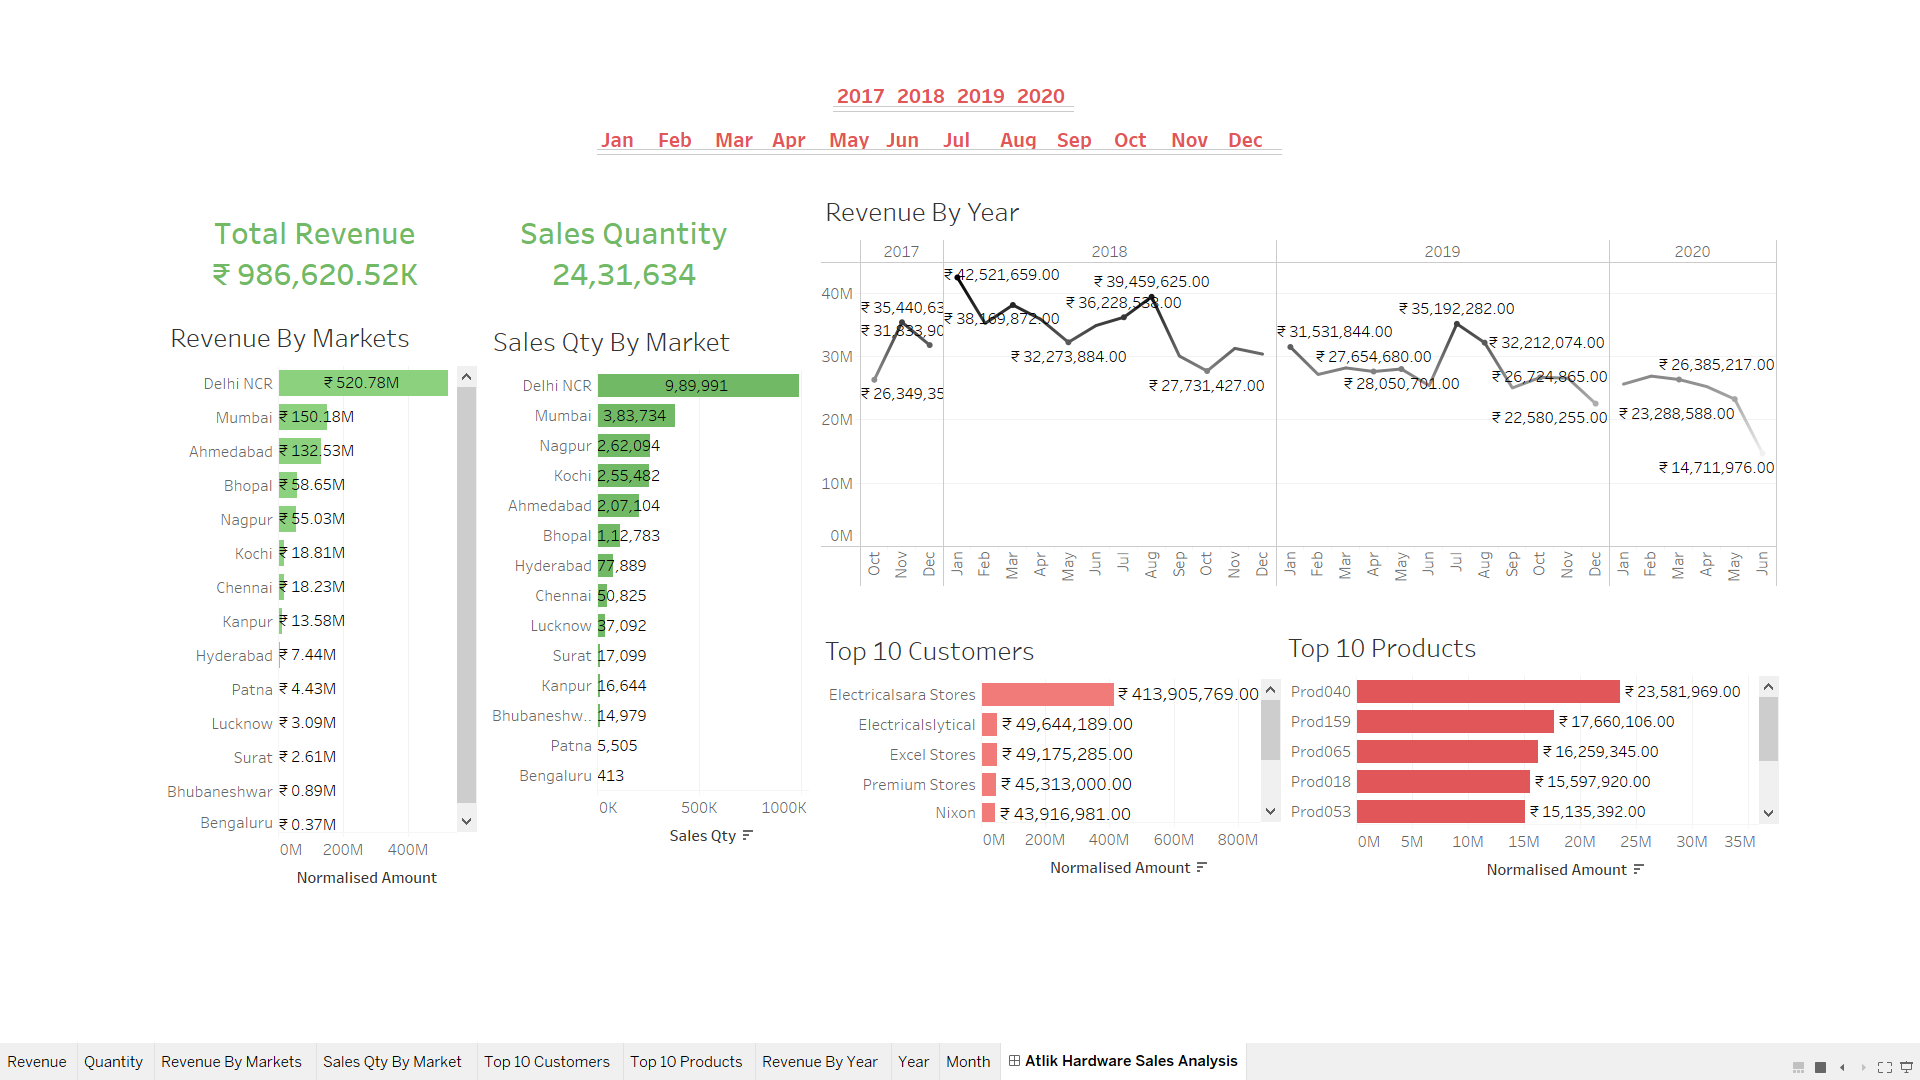

This screenshot's page, from the dashboard's own definition file:
{"tool":"tableau","page":{"name":"Atlik Hardware Sales Analysis","canvas":[1650,900],"ordinal":0},"visuals":[{"type":"worksheet","title":"Year","mark":"Automatic","cols":["cy_date"],"box":[698,13,299,50]},{"type":"worksheet","title":"Month","mark":"Automatic","cols":["cy_date"],"box":[462,58,752,68]},{"type":"worksheet","title":"Revenue By Year","mark":"Automatic","rows":["Calculation_1207527666405711872"],"cols":["cy_date","cy_date"],"box":[686,119,956,397]},{"type":"worksheet","title":"Revenue","mark":"Automatic","box":[70,141,265,89]},{"type":"worksheet","title":"Quantity","mark":"Automatic","box":[379,141,278,88]},{"type":"worksheet","title":"Revenue By Markets","mark":"Automatic","rows":["markets_name"],"cols":["Calculation_1207527666405711872"],"box":[31,245,311,579]},{"type":"worksheet","title":"Sales Qty By Market","mark":"Automatic","rows":["markets_name"],"cols":["sales_qty"],"box":[354,249,320,577]},{"type":"worksheet","title":"Top 10 Products","mark":"Automatic","rows":["product_code (products)"],"cols":["Calculation_1207527666405711872"],"box":[1149,555,495,261]},{"type":"worksheet","title":"Top 10 Customers","mark":"Automatic","rows":["custmer_name"],"cols":["Calculation_1207527666405711872"],"box":[686,558,456,256]}]}

Visuals, with their boxes on the page's 1650x900 design canvas (x1, y1, x2, y2). These are canvas units, not pixel positions in the 1920x1080 screenshot, which may show the page scaled, cropped or inside an application window:
"Year" worksheet: bbox=[698, 13, 997, 63]
"Month" worksheet: bbox=[462, 58, 1214, 126]
"Revenue By Year" worksheet: bbox=[686, 119, 1642, 516]
"Revenue" worksheet: bbox=[70, 141, 335, 230]
"Quantity" worksheet: bbox=[379, 141, 657, 229]
"Revenue By Markets" worksheet: bbox=[31, 245, 342, 824]
"Sales Qty By Market" worksheet: bbox=[354, 249, 674, 826]
"Top 10 Products" worksheet: bbox=[1149, 555, 1644, 816]
"Top 10 Customers" worksheet: bbox=[686, 558, 1142, 814]
